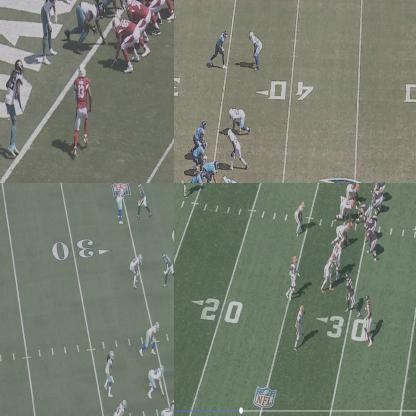CENTER: (204, 158, 220, 182), (357, 202, 370, 221)
DB: (4, 57, 26, 159), (114, 183, 127, 224), (249, 30, 261, 68), (130, 252, 142, 288), (296, 308, 306, 347), (290, 254, 297, 293), (180, 183, 190, 192)
LB: (321, 254, 337, 291), (229, 129, 244, 168), (41, 0, 57, 34), (104, 350, 114, 397), (296, 203, 306, 238), (113, 401, 126, 415)
SKILL: (113, 16, 142, 70), (74, 66, 91, 158), (213, 31, 227, 68), (364, 296, 375, 342), (345, 278, 358, 316), (137, 183, 151, 216), (164, 251, 173, 286)
